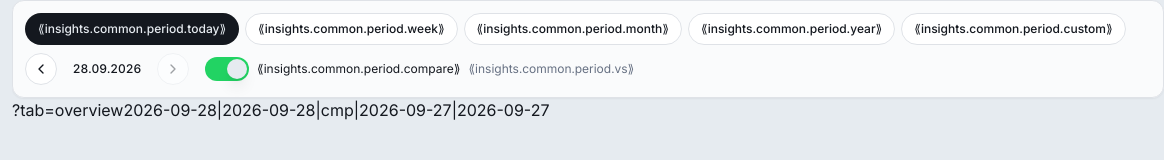
it: InsightsFilterBar › compare off is remembered in the URL
The image size is (1164, 160).
Click the switch named "⟪insights.common.period.compare⟫": (227, 69) [205,57,249,81]
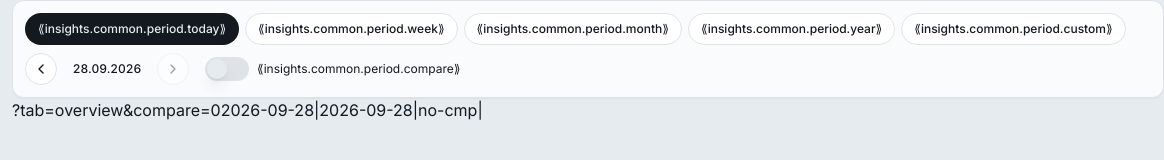
Now the text with test id "period" reads "2026-09-28|2026-09-28|no-cmp|", box [221,100,483,120]
